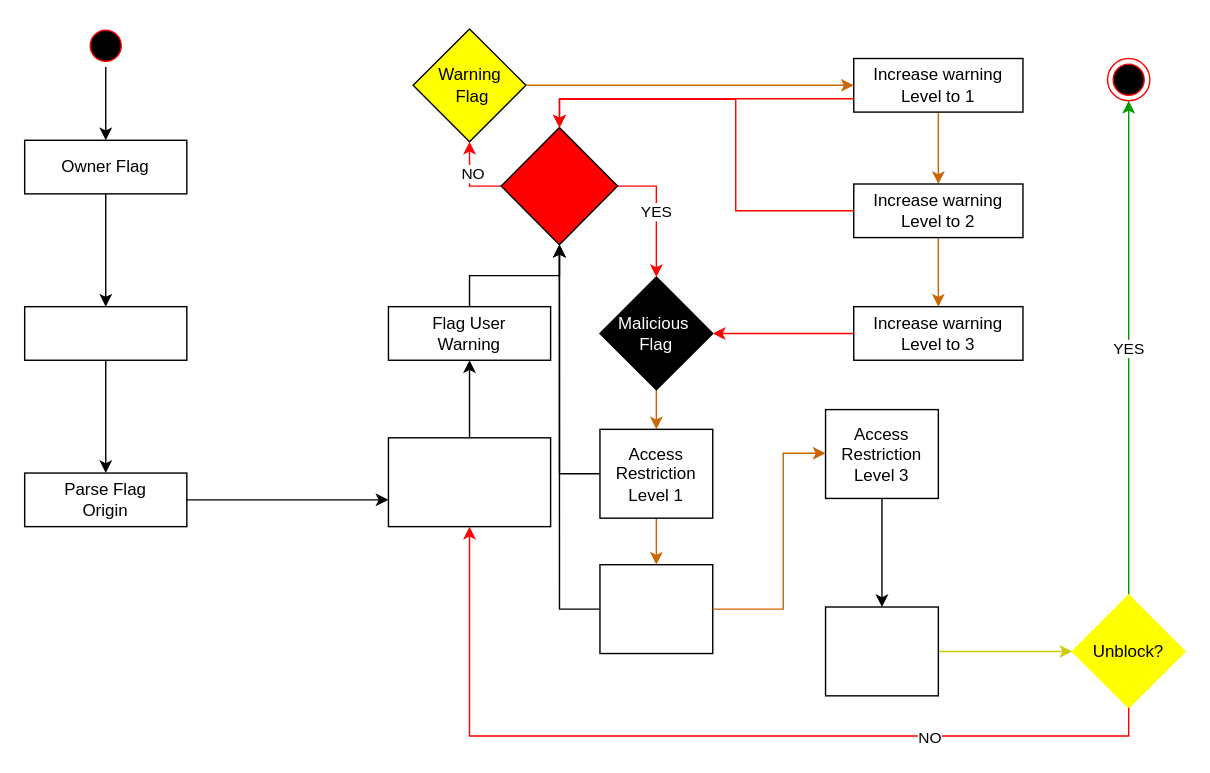
This 1210x773 diagram has some shape labels left out. Here are the shapes that lost their labels. From the top down, the centre of each, then its label:
At (559,185): "Intent Malicious?".
At (105,332): "Check Owner Flag".
At (469,481): "Parse Owner Flag to User/Admin/Seller".
At (656,608): "Access Restriction Level 2".
At (881,651): "Full Block".
